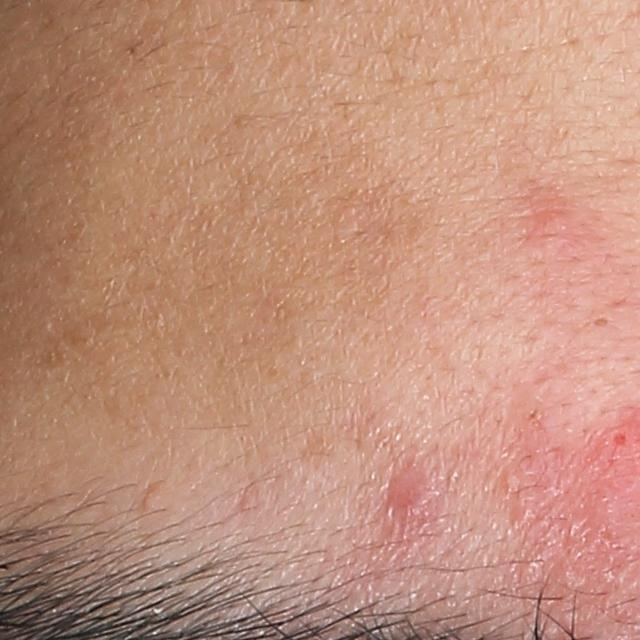comedo: (589, 314, 608, 330)
papule: (382, 469, 432, 519), (530, 210, 564, 237)
